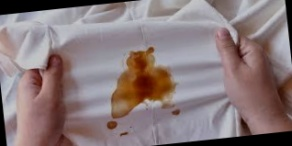coffee: (99, 46, 179, 131)
